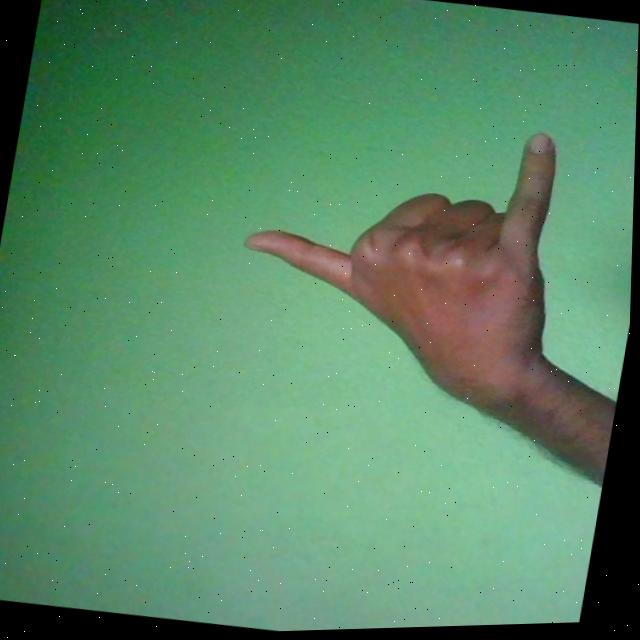Call Me: (223, 96, 579, 427)
